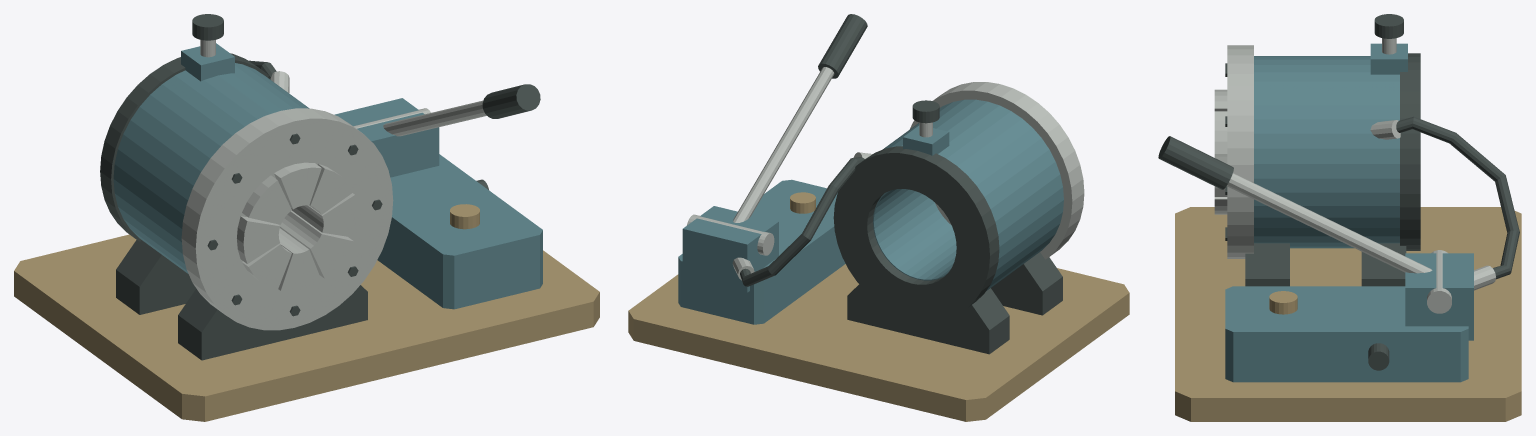
3 views of the same model, side by side, from view 1: azimuth 30°, elevation 25°; view 2: azimuth 150°, elevation 25°; view 3: azimuth 270°, elevation 25° (orthographic). The views are drawn at different scales.
Visible parts, largest first — view 1: WholeBroadChamferedCommonBase, WholeProudFrontHeadCollar, WholeDeepAnnularPressureHead, WholeSidePumpReservoir, WholeLowHeadSaddle0, WholeLowHeadSaddle1, WholeRearPumpPlungerBlock, WholeRearAnnularHeadCollar, WholeBluntRadialDieSegment7, WholeBluntRadialDieSegment0, WholeRaisedLongPumpLever, WholeBluntRadialDieSegment6 (+9 smaller); view 2: WholeBroadChamferedCommonBase, WholeDeepAnnularPressureHead, WholeRearAnnularHeadCollar, WholeSidePumpReservoir, WholeRearPumpPlungerBlock, WholeProudFrontHeadCollar, WholeLowHeadSaddle1, WholeLowHeadSaddle0, WholeRaisedLongPumpLever, WholeContinuousExternalConnectingHose, WholeLongTerminalLeverGrip, WholeRearTopStopBoss (+3 smaller); view 3: WholeBroadChamferedCommonBase, WholeDeepAnnularPressureHead, WholeSidePumpReservoir, WholeProudFrontHeadCollar, WholeRearPumpPlungerBlock, WholeRearAnnularHeadCollar, WholeRaisedLongPumpLever, WholeContinuousExternalConnectingHose, WholeLongTerminalLeverGrip, WholeLowHeadSaddle0, WholeLowHeadSaddle1, WholeRearTopStopBoss (+7 smaller).
Boxes of the visible parts, x1,y1,x2,y2 form: WholeBroadChamferedCommonBase: [14, 234, 599, 421]; WholeProudFrontHeadCollar: [181, 108, 393, 330]; WholeDeepAnnularPressureHead: [113, 63, 309, 273]; WholeSidePumpReservoir: [377, 154, 542, 309]; WholeLowHeadSaddle0: [178, 285, 367, 360]; WholeLowHeadSaddle1: [116, 240, 196, 314]; WholeRearPumpPlungerBlock: [334, 98, 439, 177]; WholeRearAnnularHeadCollar: [100, 53, 268, 241]; WholeBluntRadialDieSegment7: [278, 210, 353, 278]; WholeBluntRadialDieSegment0: [291, 193, 358, 237]; WholeRaisedLongPumpLever: [383, 100, 486, 136]; WholeBluntRadialDieSegment6: [278, 228, 321, 291]; WholeBroadChamferedCommonBase: [628, 264, 1129, 421]; WholeDeepAnnularPressureHead: [873, 99, 1063, 290]; WholeRearAnnularHeadCollar: [833, 146, 999, 320]; WholeSidePumpReservoir: [678, 179, 845, 324]; WholeRearPumpPlungerBlock: [682, 206, 778, 292]; WholeProudFrontHeadCollar: [910, 82, 1084, 259]; WholeLowHeadSaddle1: [847, 284, 1009, 354]; WholeLowHeadSaddle0: [991, 252, 1062, 315]; WholeRaisedLongPumpLever: [733, 67, 834, 222]; WholeContinuousExternalConnectingHose: [740, 157, 864, 286]; WholeLongTerminalLeverGrip: [818, 14, 867, 78]; WholeRearTopStopBoss: [903, 125, 949, 155]; WholeBroadChamferedCommonBase: [1175, 207, 1521, 421]; WholeDeepAnnularPressureHead: [1254, 56, 1399, 248]; WholeSidePumpReservoir: [1225, 286, 1468, 382]; WholeProudFrontHeadCollar: [1227, 45, 1253, 258]; WholeRearPumpPlungerBlock: [1405, 253, 1473, 340]; WholeRearAnnularHeadCollar: [1400, 53, 1420, 250]; WholeRaisedLongPumpLever: [1227, 173, 1432, 273]; WholeContinuousExternalConnectingHose: [1396, 116, 1519, 279]; WholeLongTerminalLeverGrip: [1158, 136, 1233, 189]; WholeLowHeadSaddle0: [1245, 243, 1289, 286]; WholeLowHeadSaddle1: [1361, 243, 1406, 286]; WholeRearTopStopBoss: [1370, 43, 1407, 74].
Bounding box in the file's own units: 0.855 × 0.565 × 0.6864.
